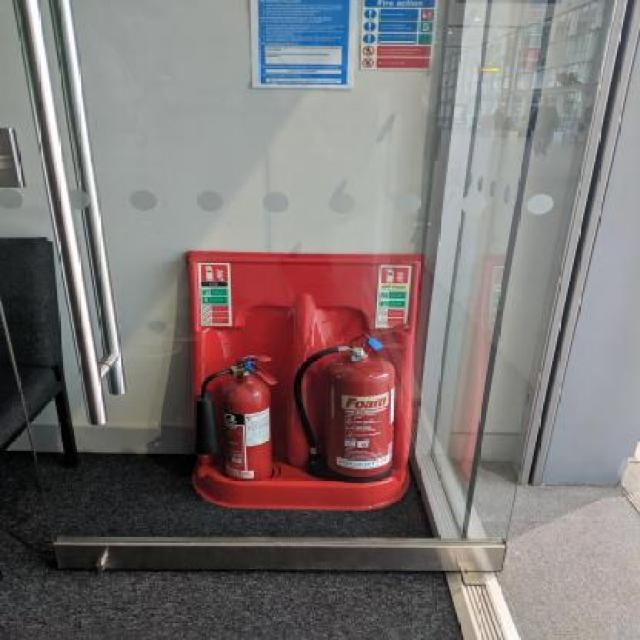fire extinguisher: (293, 326, 404, 483), (199, 358, 278, 480)
